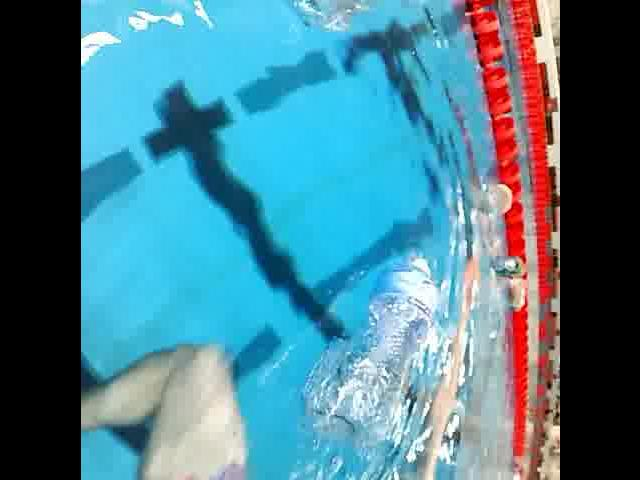Bottle: (312, 243, 442, 450), (158, 0, 378, 56)
Can: (492, 248, 524, 280)
